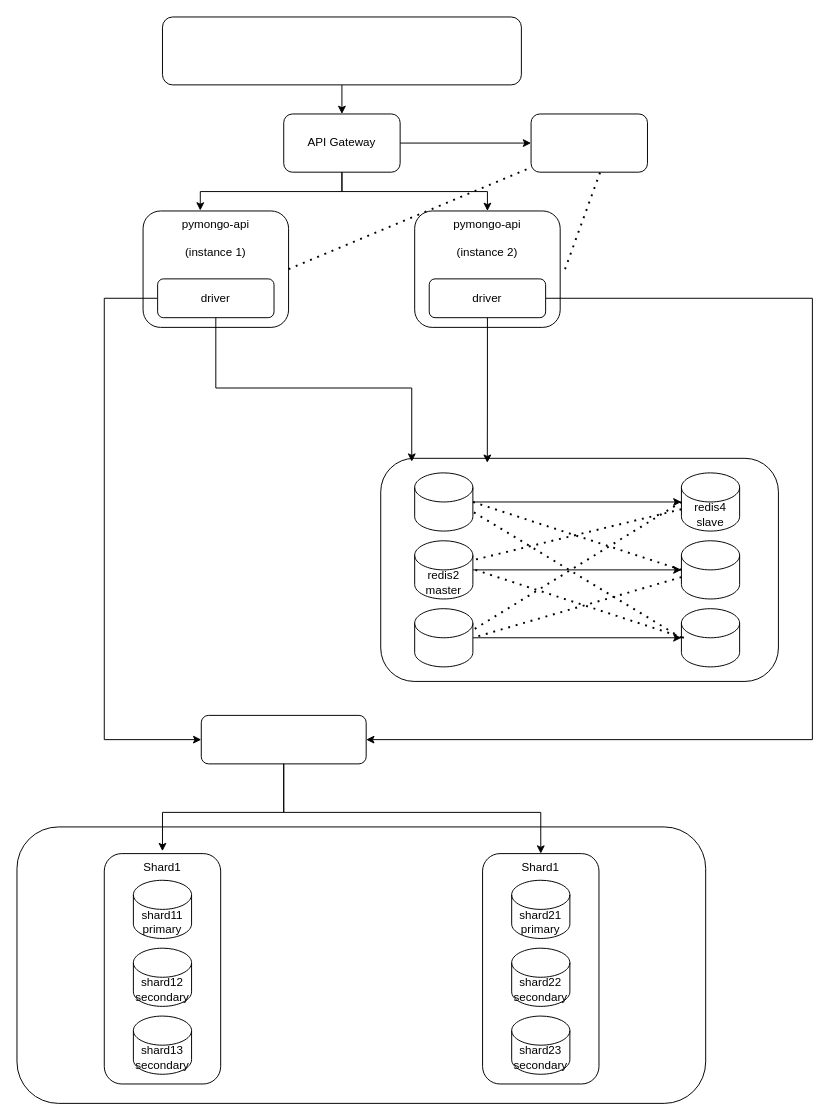
Image size: 837x1120. Some labels were removed from this diagram. The shapes that lost their labels are listed below. From the top down, each one's box as (x1, y1, x2, y2) in pixels, then its label:
(162, 16, 521, 85): user's requests / ui
(530, 113, 647, 172): Consul (Service Discovery)
(414, 472, 473, 531): redis1 master
(680, 540, 740, 599): redis5 slave
(414, 608, 473, 667): redis3 master
(680, 608, 740, 667): redis6 slave
(200, 714, 366, 764): mongoinfra
